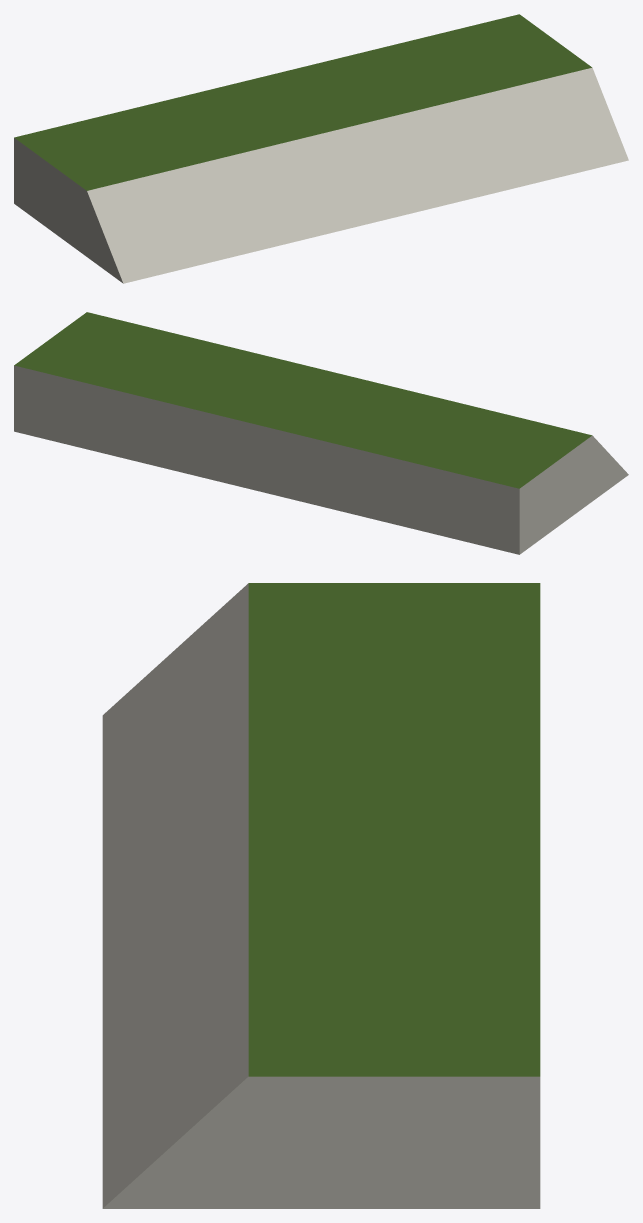
File: Terrain_Tile_Grass_Rock_Ledge_04.fbx
3 renders of one model, top to bottom at view 1: azimuth 30°, elevation 25°; view 2: azimuth 150°, elevation 25°; view 3: azimuth 270°, elevation 25°, orthographic. The views are drawn at different scales.
Parts seen in each view (by area): view 1: Model; view 2: Model; view 3: Model.
Part boxes in pixels (x1,y1,x2,y2): Model: (14,14,628,283); Model: (14,312,628,554); Model: (102,583,540,1208).
Bounding box in the file's own units: 2000 × 250 × 750.
